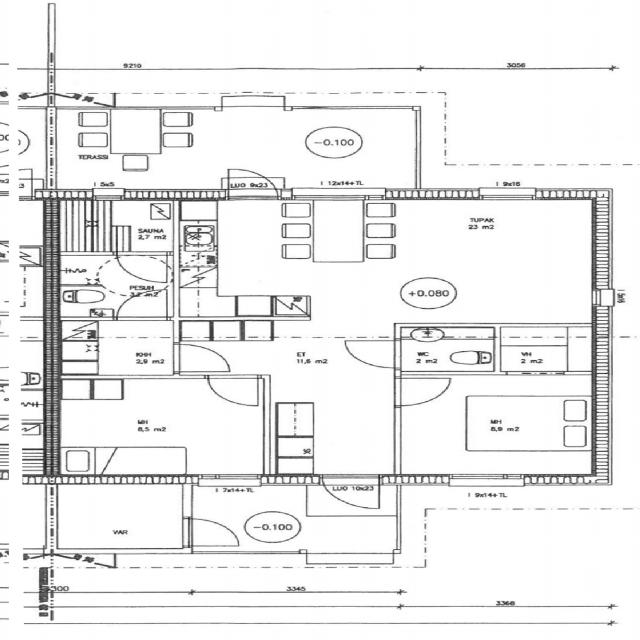door: (322, 474, 380, 516), (229, 162, 277, 199), (183, 518, 242, 546), (208, 374, 258, 406), (173, 344, 230, 372), (344, 341, 402, 368), (116, 251, 166, 282), (394, 378, 450, 405), (118, 290, 166, 320)
